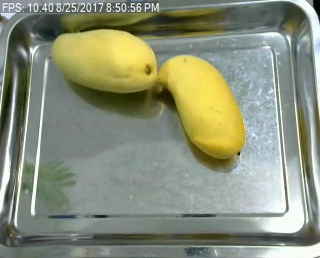Mango: (157, 51, 252, 158), (51, 29, 160, 94)
